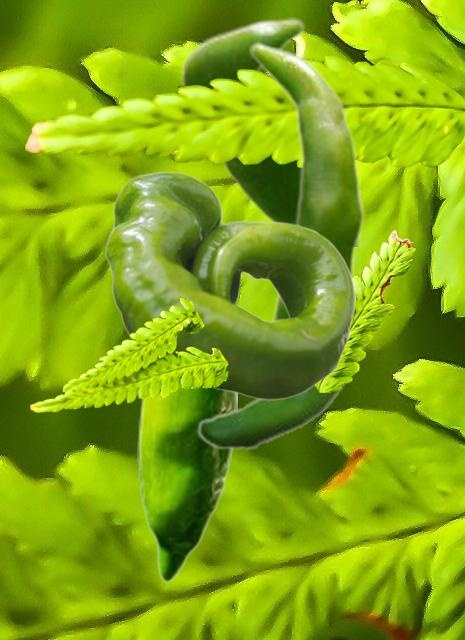green_chili: (105, 171, 354, 399), (180, 17, 358, 245), (248, 40, 365, 319), (137, 386, 236, 581), (196, 362, 359, 450)
